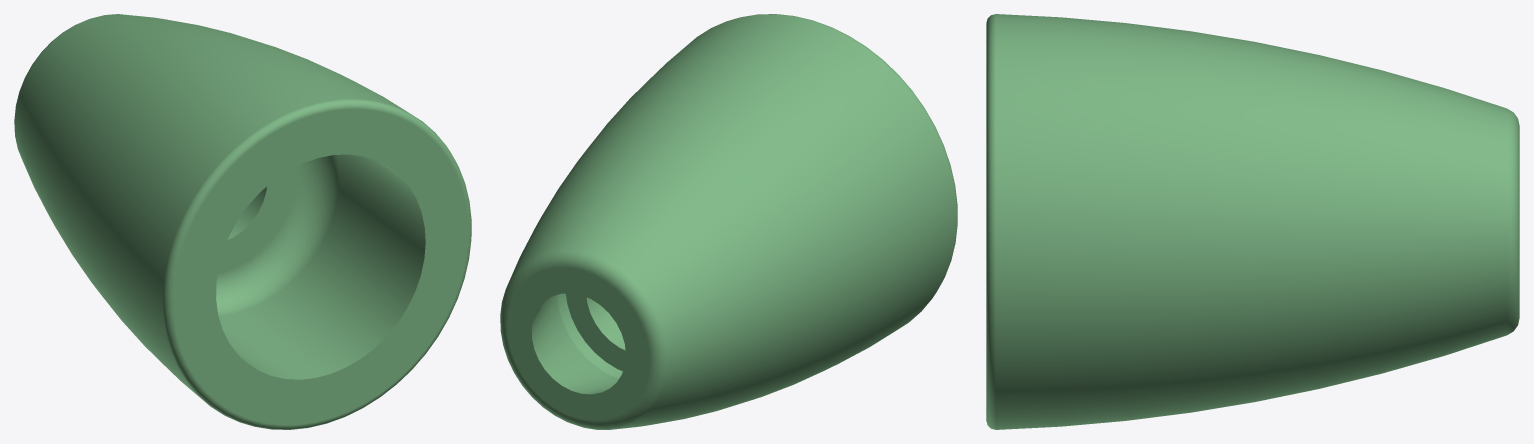
File: wheel_roller.dae
The picture shows the model from 3 angles, left to right: view 1: azimuth 30°, elevation 25°; view 2: azimuth 150°, elevation 25°; view 3: azimuth 270°, elevation 25°; orthographic projection. The views are drawn at different scales.
Visible parts, largest first — view 1: roller_norm; view 2: roller_norm; view 3: roller_norm.
Part boxes in pixels (x1,y1,x2,y2): roller_norm: (14, 14, 471, 429); roller_norm: (500, 14, 957, 429); roller_norm: (986, 14, 1519, 429).
Bounding box in the file's own units: 22.29 × 28.6 × 22.29.
